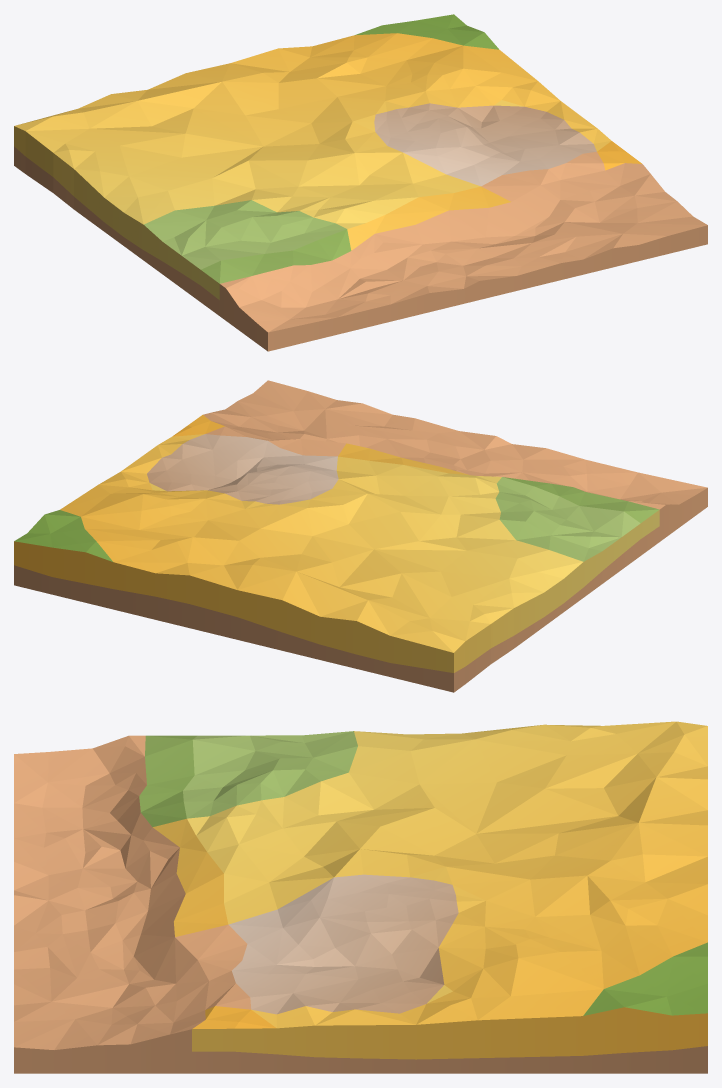
Rendered from land autumn mountain camping.fbx.
3 views of the same model, one above another, from view 1: azimuth 30°, elevation 25°; view 2: azimuth 150°, elevation 25°; view 3: azimuth 270°, elevation 25° (orthographic). The views are drawn at different scales.
Visible parts, largest first — view 1: land autumn mountain camping; view 2: land autumn mountain camping; view 3: land autumn mountain camping.
Part boxes in pixels (bbox=[...]): land autumn mountain camping: bbox=[14, 14, 707, 351]; land autumn mountain camping: bbox=[14, 380, 707, 692]; land autumn mountain camping: bbox=[14, 721, 707, 1073].
Size of the model in its own units: 4500 by 567 by 4500.
